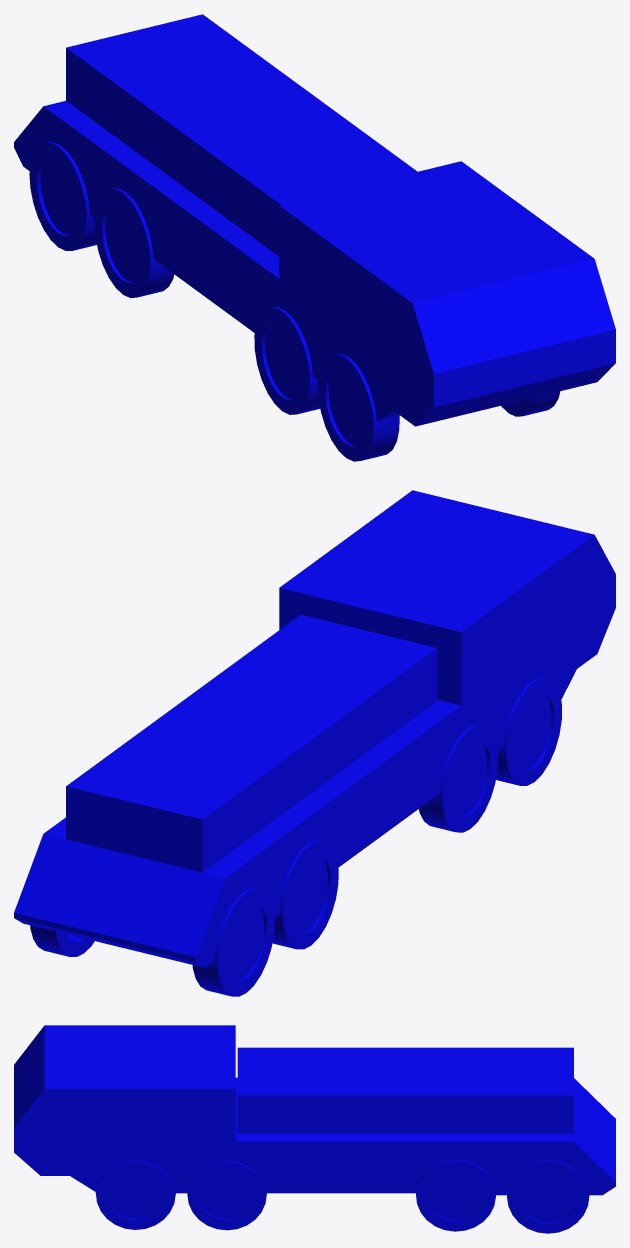
Rendered from Boardgame_Troop_HQ_Token_Blue_01.fbx.
3 views of the same model, one above another, from view 1: azimuth 30°, elevation 25°; view 2: azimuth 150°, elevation 25°; view 3: azimuth 270°, elevation 25° (orthographic). The views are drawn at different scales.
Visible parts, largest first — view 1: Model; view 2: Model; view 3: Model.
Boxes of the visible parts, left/top/right/bottom form: Model: left=14, top=14, right=615, bottom=461; Model: left=14, top=490, right=615, bottom=996; Model: left=14, top=1025, right=615, bottom=1233.
Bounding box in the file's own units: 142 × 144 × 547.
